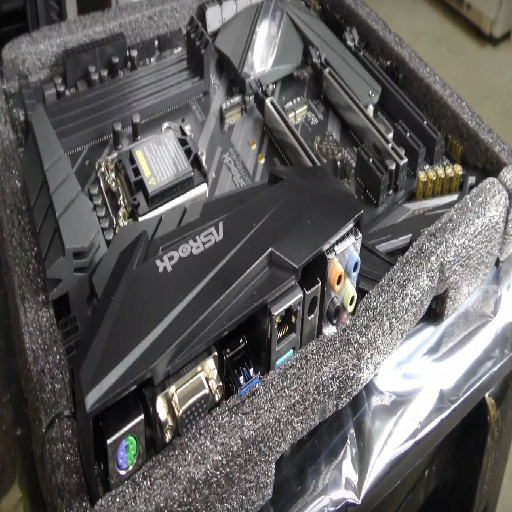CPU: (96, 123, 213, 226)
GPU: (306, 44, 408, 190), (344, 25, 446, 161), (249, 77, 324, 166)
MOTHERBOARD: (5, 2, 494, 508)
RAM: (16, 15, 213, 163)
SSD: (219, 94, 245, 121), (281, 95, 308, 121)
